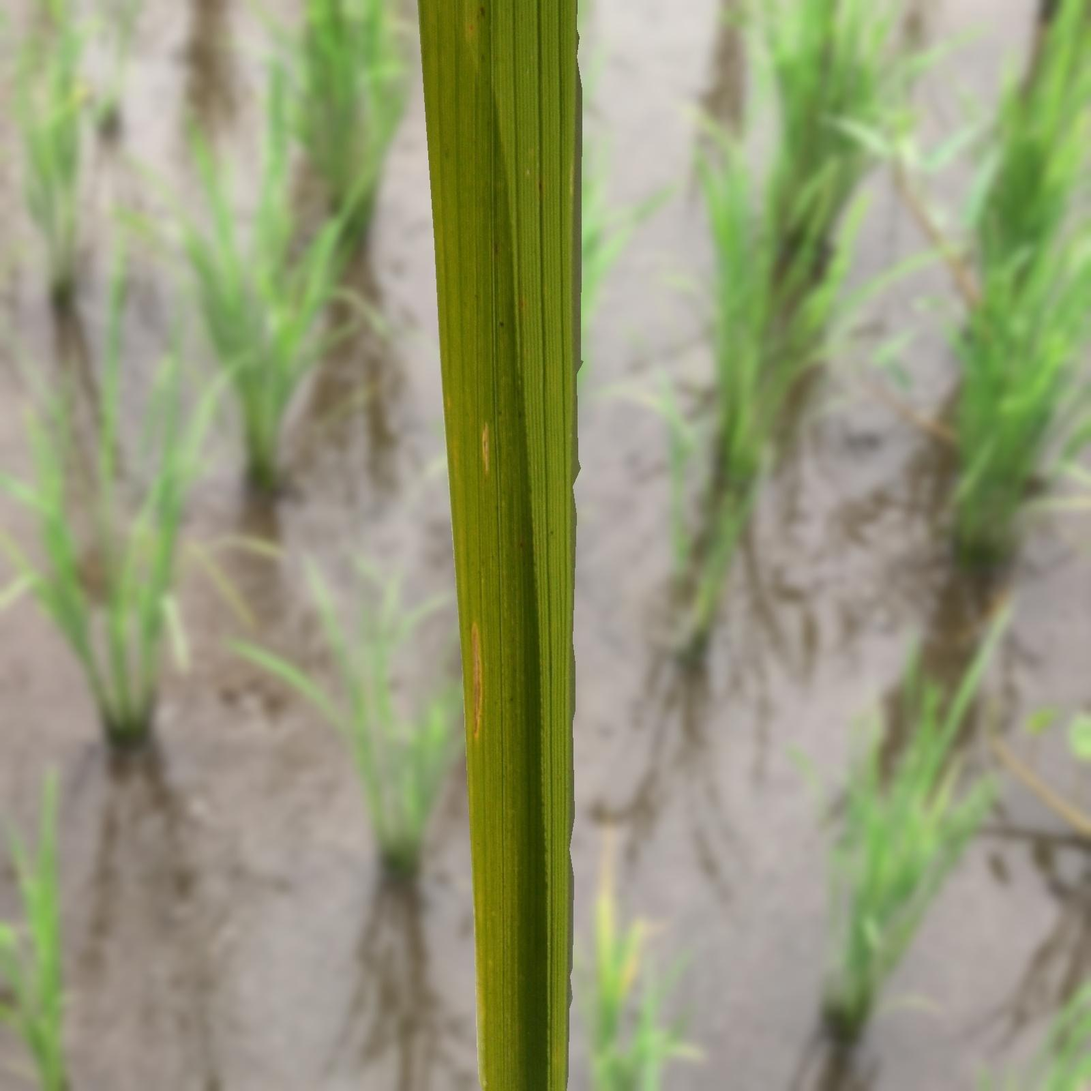BLS: (472, 622, 483, 738), (481, 422, 488, 475)
LEAF: (417, 0, 583, 1090)
